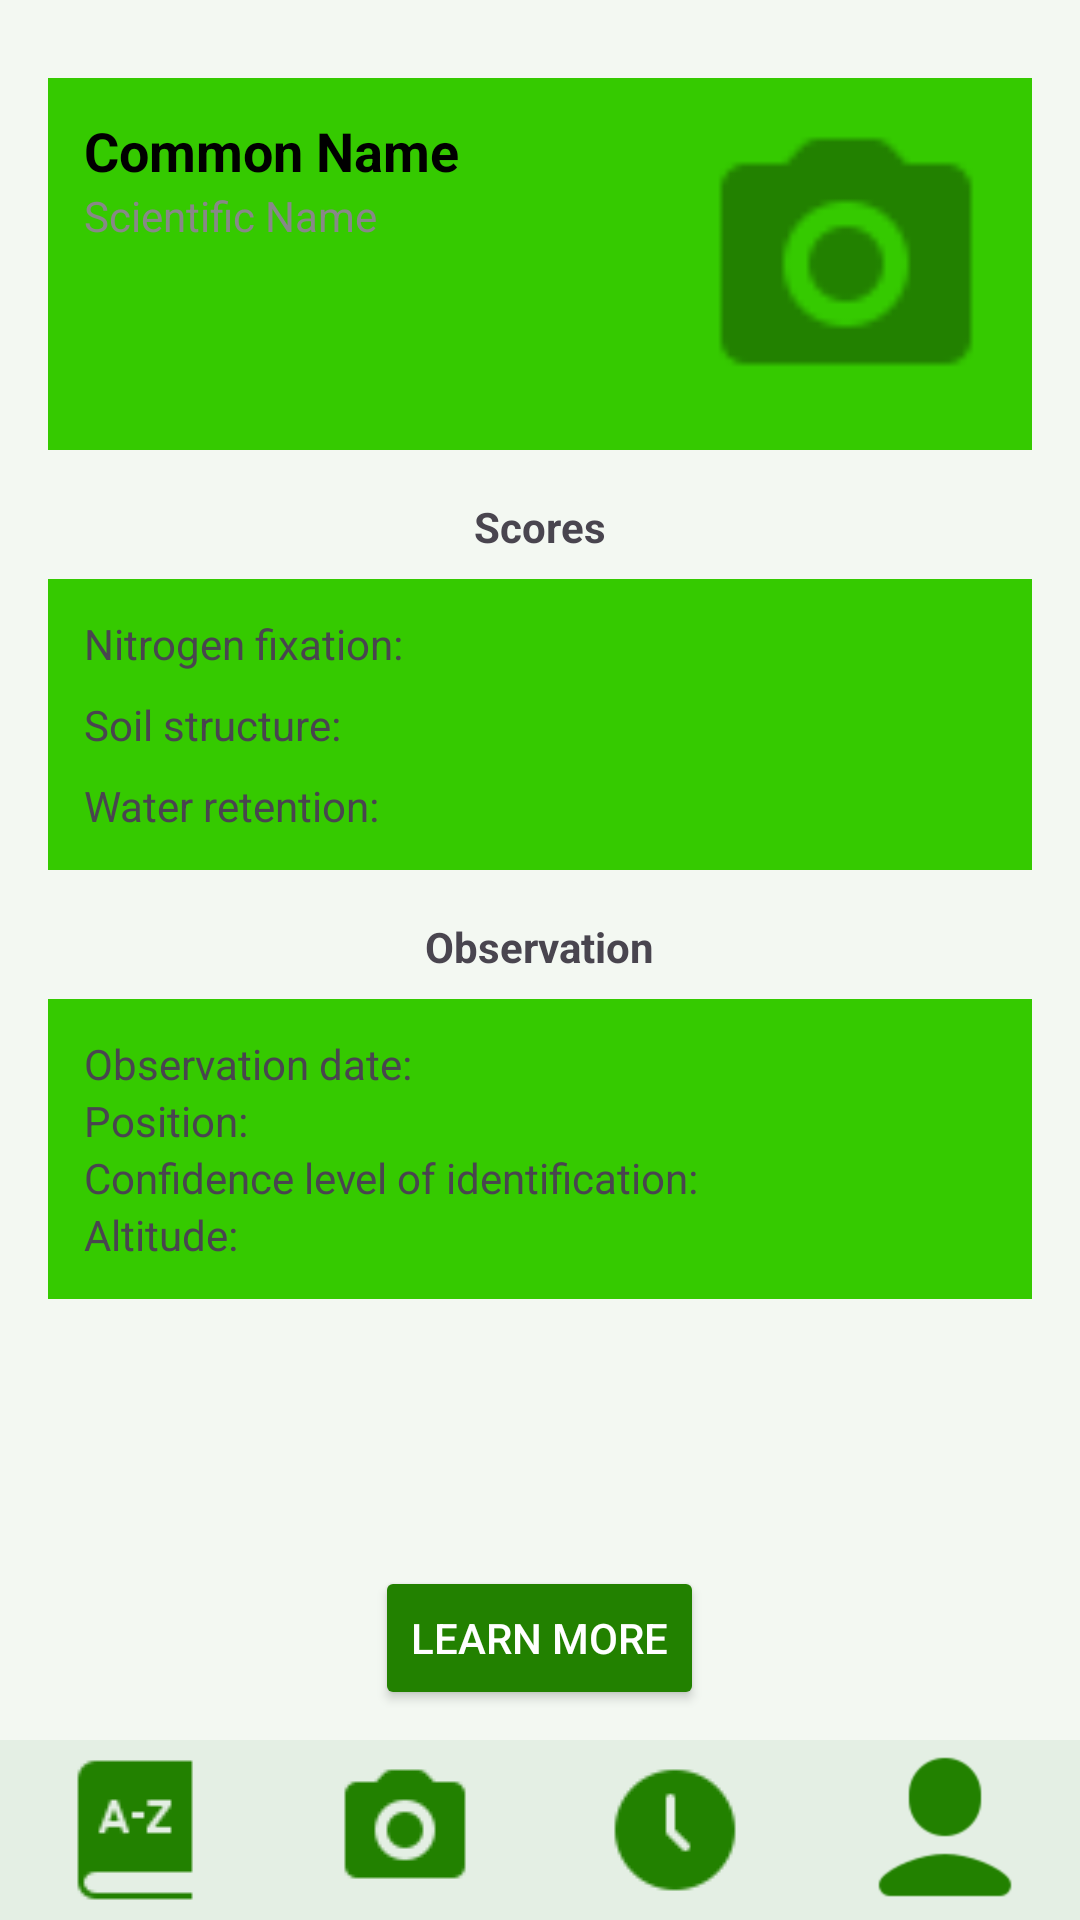

Icon bounding boxes for this 1080×1920 phone screenshot, format bbox=[x1, y1, x2, y2]:
camera: bbox=[720, 138, 972, 365]
Caméra: bbox=[344, 1769, 466, 1879]
Compte: bbox=[878, 1757, 1012, 1897]
Encyclopédie: bbox=[77, 1760, 193, 1900]
Historique: bbox=[614, 1769, 736, 1891]
